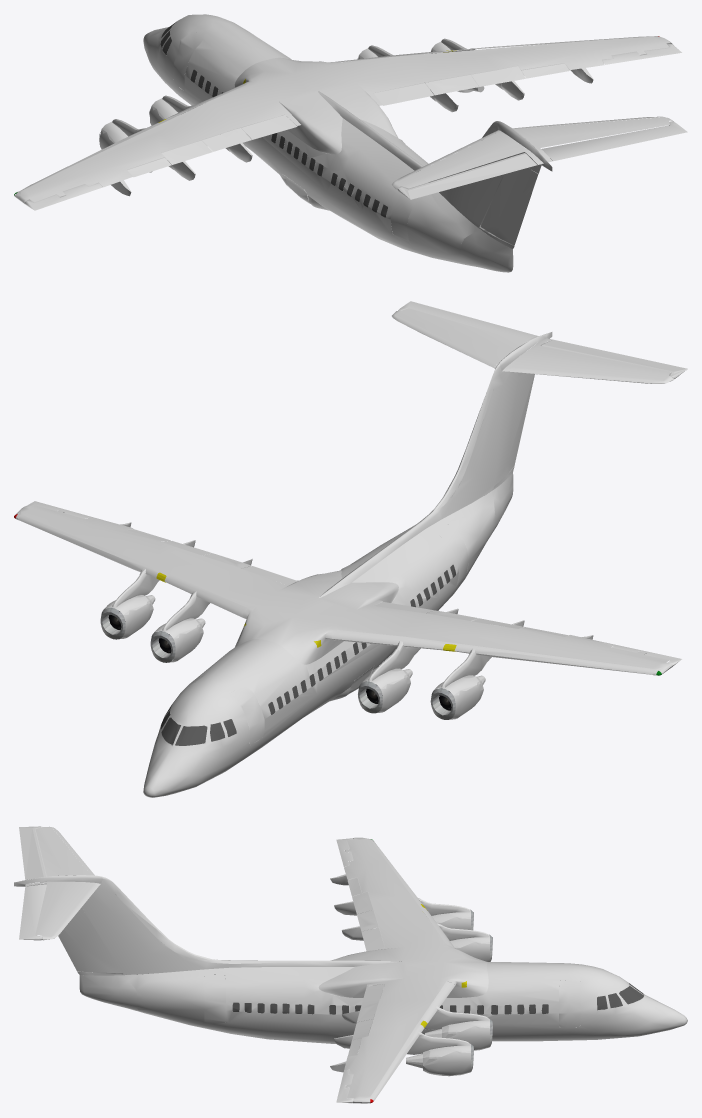
Rendered from bae146.glb.
The picture shows the model from 3 angles, top to bottom: view 1: azimuth 30°, elevation 25°; view 2: azimuth 150°, elevation 25°; view 3: azimuth 270°, elevation 25°; orthographic projection. The views are drawn at different scales.
Visible parts, largest first — view 1: rootNode; view 2: rootNode; view 3: rootNode.
Part boxes in pixels (<box>): rootNode: <box>14,14,687,272</box>; rootNode: <box>14,301,687,797</box>; rootNode: <box>14,826,687,1103</box>.
Bounding box in the file's own units: 26.17 × 7.72 × 28.31.
Materials: 7 (1 with a texture image).
